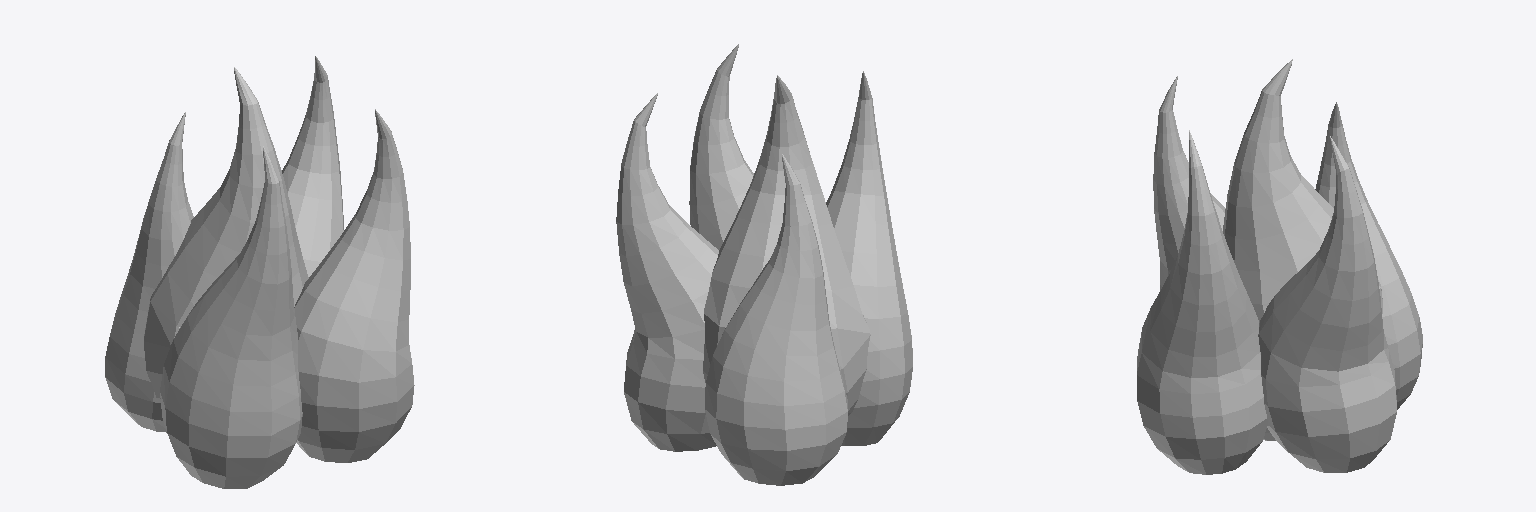
Rendered from fire_000034.obj.
The picture shows the model from 3 angles: view 1: azimuth 30°, elevation 25°; view 2: azimuth 150°, elevation 25°; view 3: azimuth 270°, elevation 25°; orthographic projection.
Visible parts, largest first — view 1: flame_NurbsPath.015; view 2: flame_NurbsPath.015; view 3: flame_NurbsPath.015.
Part boxes in pixels (left/top/right/bottom): flame_NurbsPath.015: left=105, top=56, right=414, bottom=488; flame_NurbsPath.015: left=616, top=44, right=912, bottom=485; flame_NurbsPath.015: left=1137, top=59, right=1422, bottom=474.
Size of the model in its own units: 0.7446 by 1.18 by 0.8118.